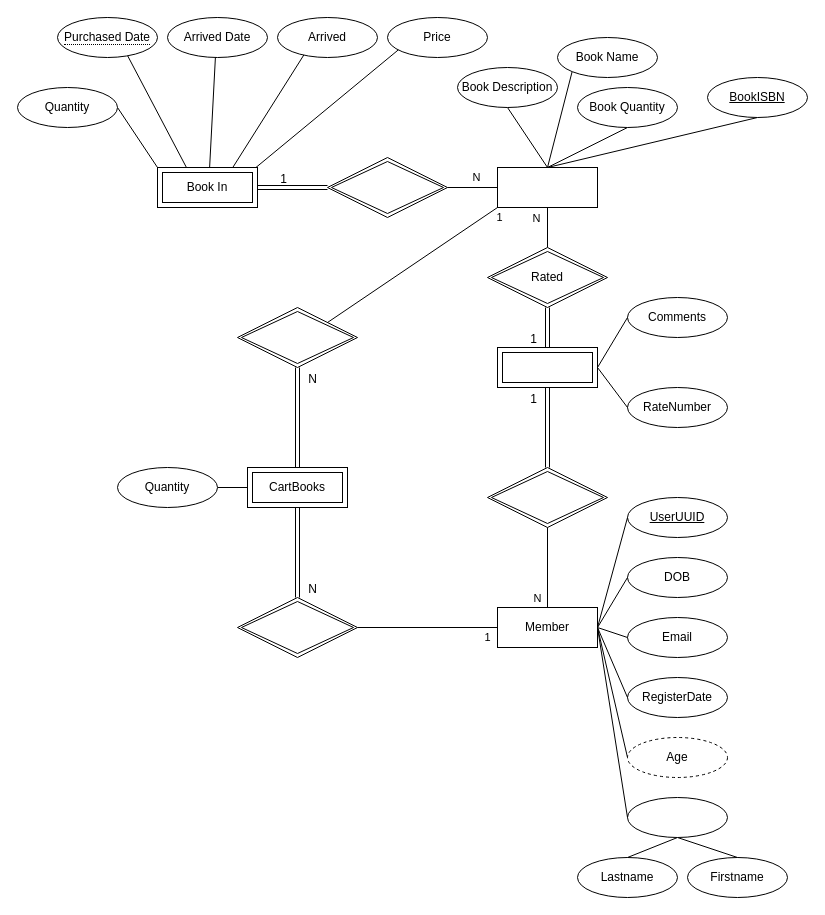
Image size: 825x915. Some labels were removed from this diagram. The shapes that lost their labels are listed below. From the top down, each one's centre as x and y in pixels, then its label:
At [387,187]: "SentByPublisher".
At [547,187]: "Book".
At [297,337]: "AddedTo".
At [547,367]: "Ratings".
At [547,497]: "Writes".
At [297,627]: "AddedBy".
At [677,817]: "Name".
